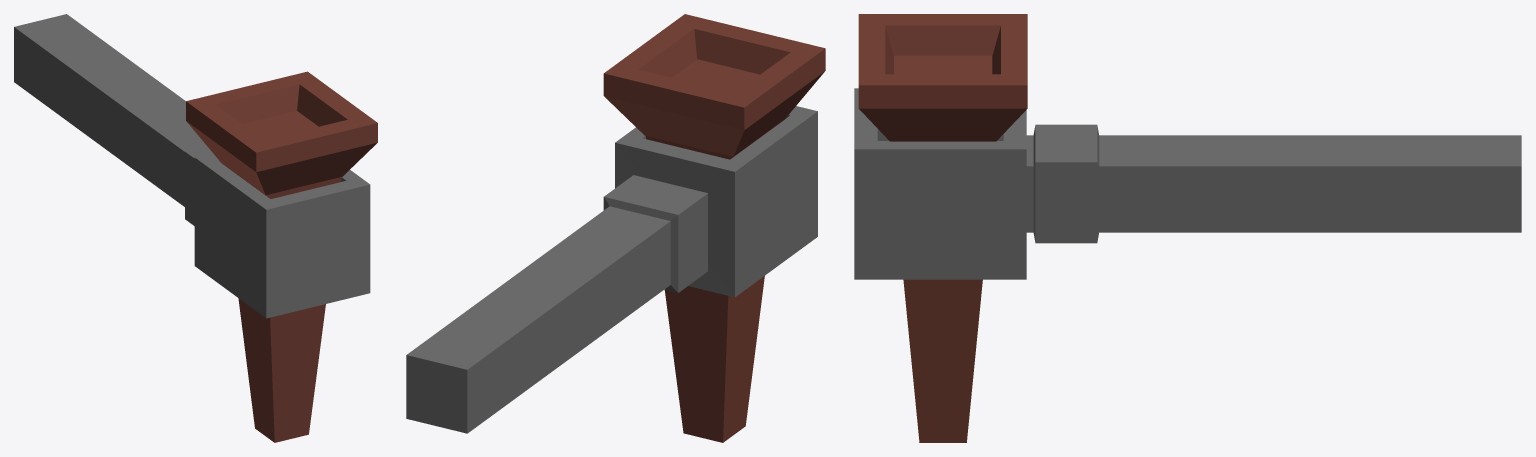
The model's file is torch.fbx.
3 renders of one model, left to right at view 1: azimuth 30°, elevation 25°; view 2: azimuth 150°, elevation 25°; view 3: azimuth 270°, elevation 25°, orthographic. The views are drawn at different scales.
Parts seen in each view (by area): view 1: Torch; view 2: Torch; view 3: Torch.
Boxes of the visible parts, left/top/right/bottom form: Torch: left=14, top=14, right=377, bottom=442; Torch: left=406, top=14, right=825, bottom=442; Torch: left=854, top=14, right=1521, bottom=442.
Bounding box in the file's own units: 20.37 × 51.08 × 80.55.
